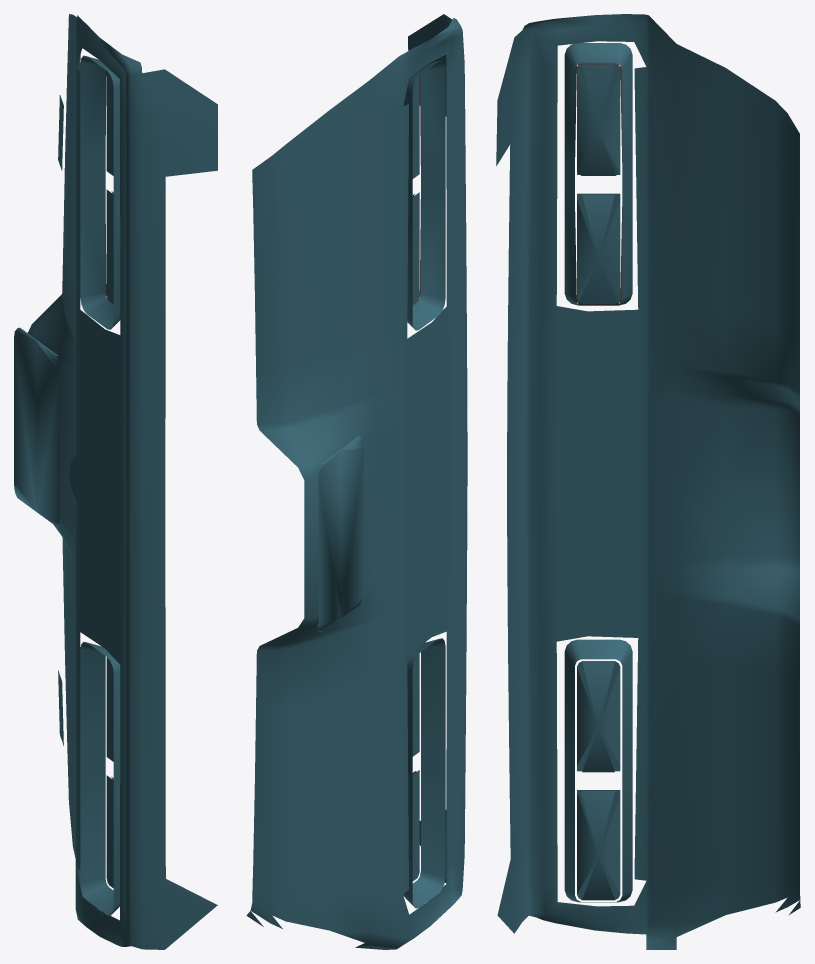
The model's file is CamaroBack.obj.
The picture shows the model from 3 angles, left to right: view 1: azimuth 30°, elevation 25°; view 2: azimuth 150°, elevation 25°; view 3: azimuth 270°, elevation 25°; orthographic projection. The views are drawn at different scales.
Size of the model in its own units: 0.7431 by 6.9 by 2.05.
